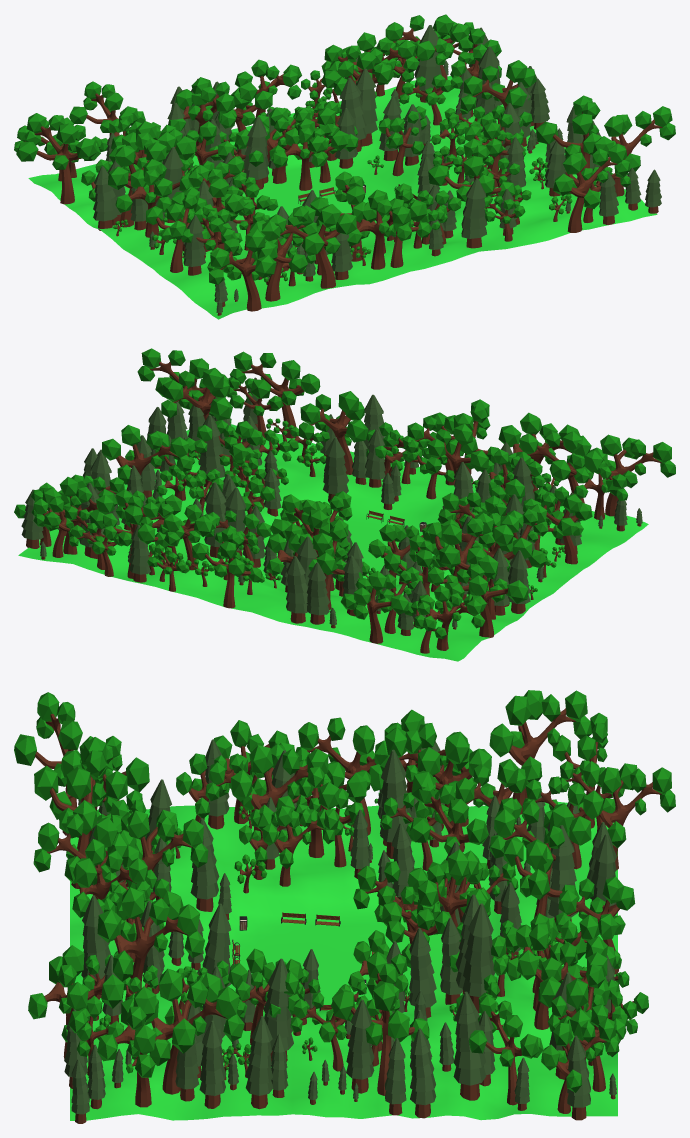
Rendered from terrain.fbx.
3 renders of one model, top to bottom at view 1: azimuth 30°, elevation 25°; view 2: azimuth 150°, elevation 25°; view 3: azimuth 270°, elevation 25°, orthographic. The views are drawn at different scales.
Parts seen in each view (by area): view 1: Plane.003, Plane.002; view 2: Plane.003, Plane.002; view 3: Plane.003, Plane.002.
Boxes of the visible parts, x1,y1,x2,y2 form: Plane.003: [14, 14, 675, 315]; Plane.002: [28, 76, 657, 319]; Plane.003: [14, 348, 675, 653]; Plane.002: [18, 424, 648, 661]; Plane.003: [14, 690, 675, 1123]; Plane.002: [70, 801, 617, 1120].
Size of the model in its own units: 6023 by 1050 by 4594.
